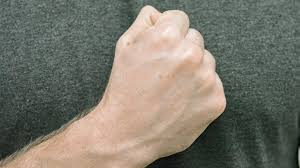fist: (118, 19, 218, 147)
